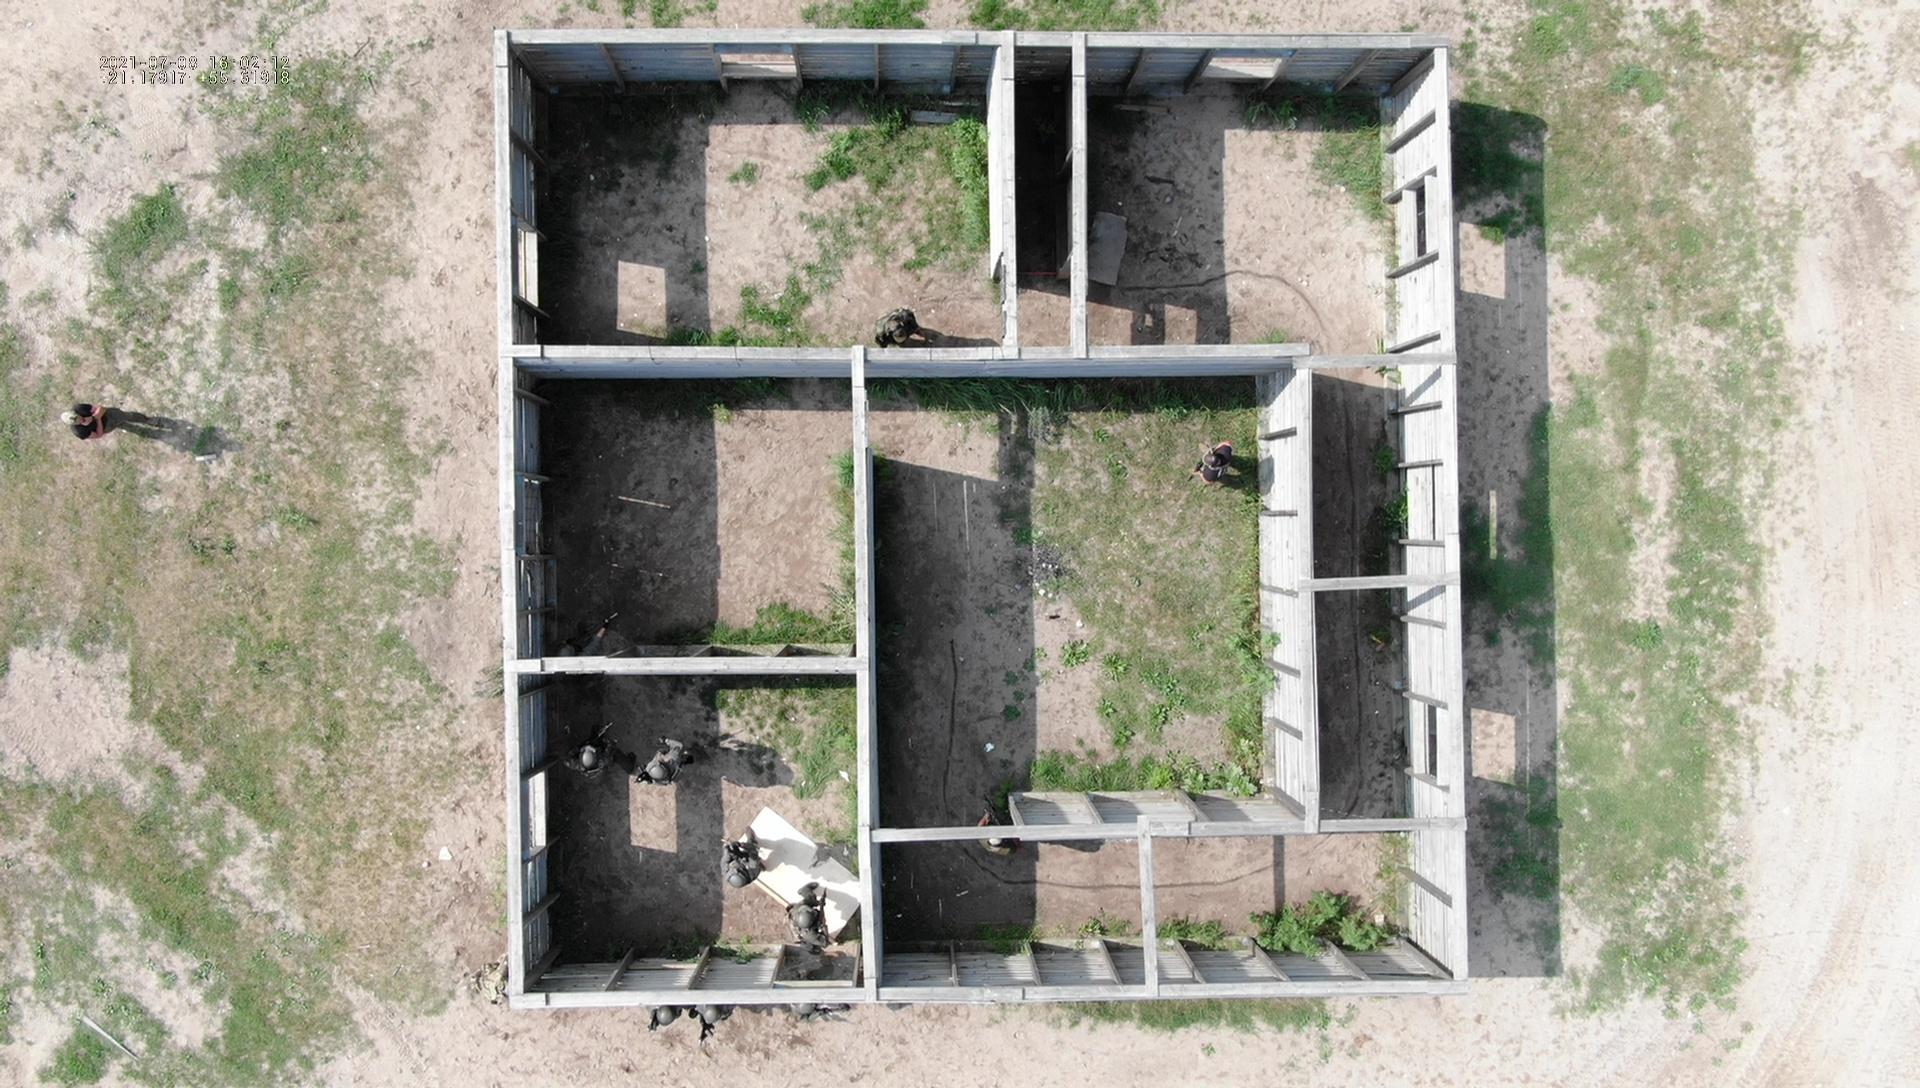Soldier: (54, 392, 167, 451), (775, 909, 853, 993), (630, 731, 702, 801), (575, 724, 633, 807), (719, 826, 778, 894), (1195, 433, 1241, 506), (873, 295, 924, 353), (644, 1000, 692, 1031)
